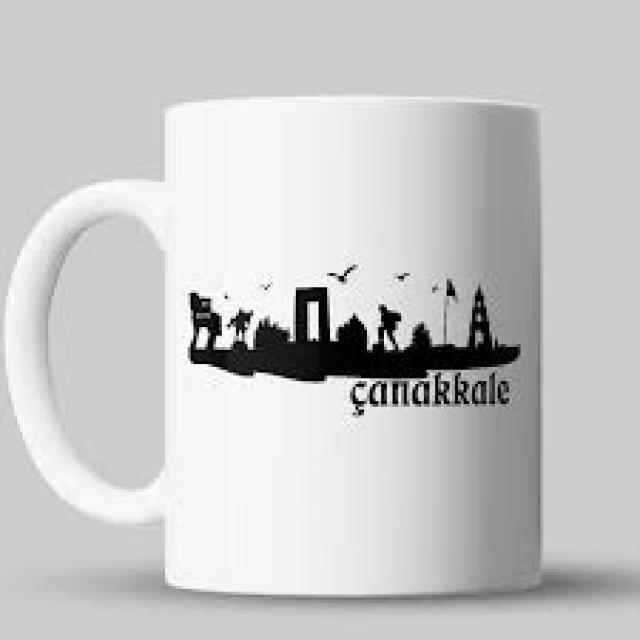taza: (6, 95, 542, 594)
